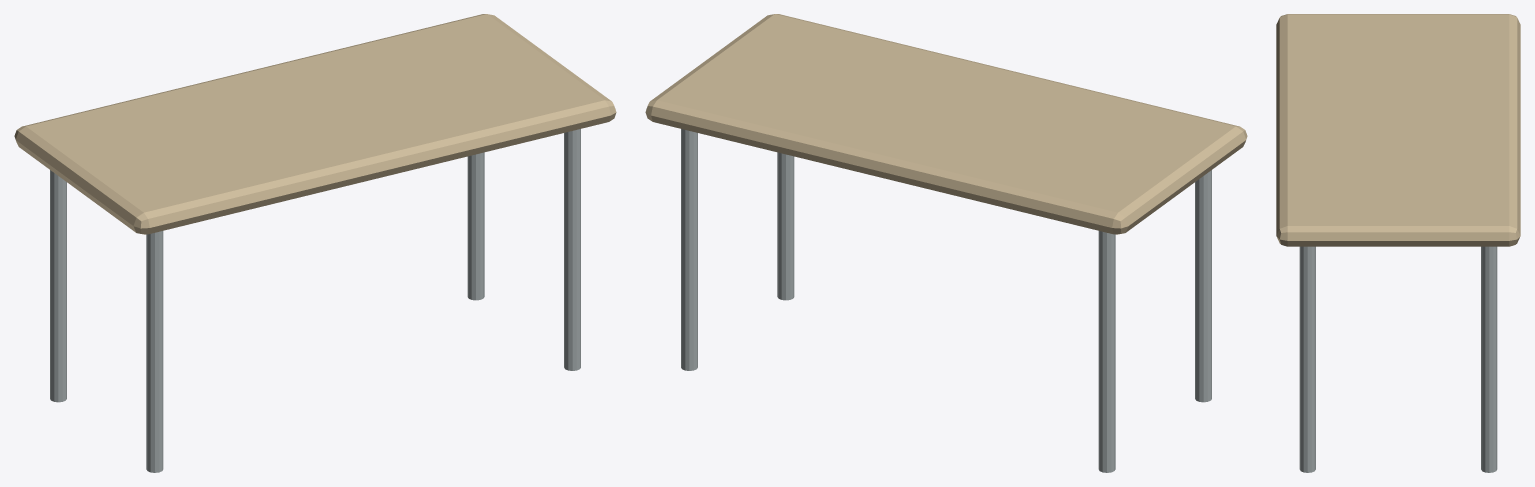
File: consultation_desk_starter.glb
3 views of the same model, side by side, from view 1: azimuth 30°, elevation 25°; view 2: azimuth 150°, elevation 25°; view 3: azimuth 270°, elevation 25° (orthographic). The views are drawn at different scales.
Parts seen in each view (by area): view 1: STATIC_beige.008, STATIC_metal.022; view 2: STATIC_beige.008, STATIC_metal.022; view 3: STATIC_beige.008, STATIC_metal.022.
Part boxes in pixels (left/top/right/bottom): STATIC_beige.008: left=14, top=14, right=616, bottom=234; STATIC_metal.022: left=50, top=129, right=580, bottom=472; STATIC_beige.008: left=645, top=14, right=1247, bottom=234; STATIC_metal.022: left=681, top=129, right=1211, bottom=472; STATIC_beige.008: left=1276, top=14, right=1520, bottom=246; STATIC_metal.022: left=1299, top=246, right=1497, bottom=472.
Bounding box in the file's own units: 1.5 × 0.8025 × 0.7.
